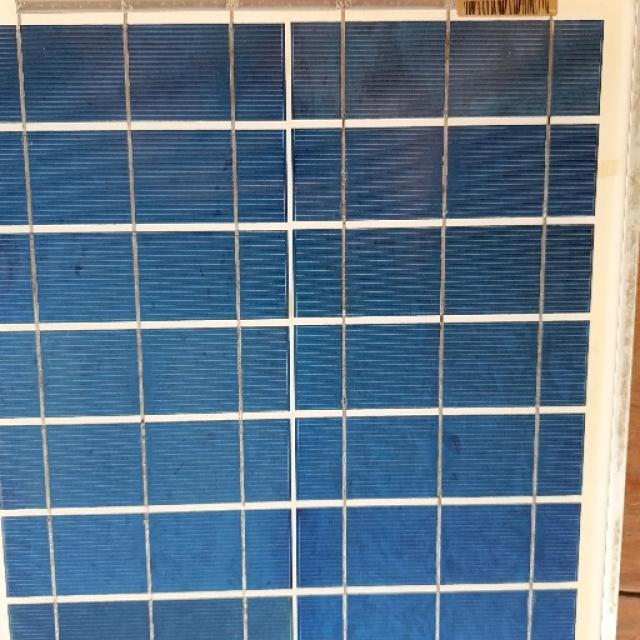Clean: (0, 36, 629, 640)
